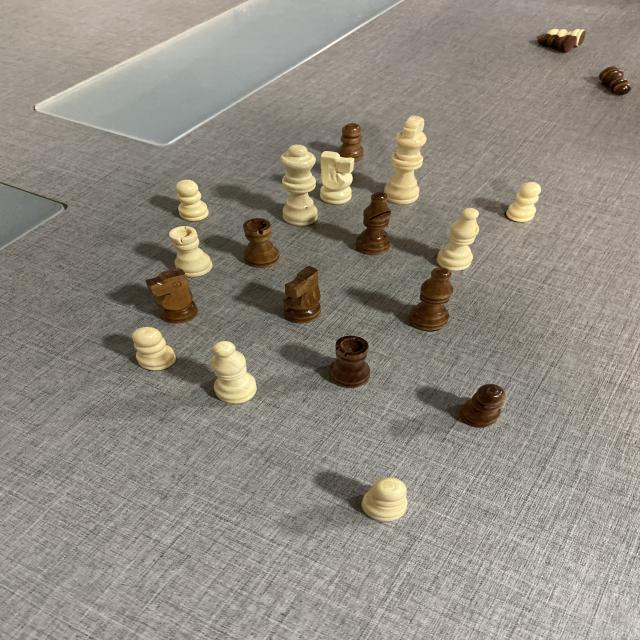Black-Bishop: (409, 266, 456, 329), (358, 194, 394, 255)
Black-Knight: (148, 269, 200, 327), (278, 266, 327, 324)
Black-Pawn: (459, 382, 509, 427), (337, 122, 368, 160), (597, 66, 632, 96), (535, 34, 576, 51)
Black-Rook: (329, 336, 374, 388), (243, 217, 279, 266)
White-Bishop: (207, 341, 264, 405), (436, 208, 479, 270)
White-King: (383, 116, 433, 204)
White-Knight: (318, 152, 356, 204)
White-Pawn: (358, 475, 411, 520), (130, 326, 179, 372), (503, 181, 545, 227), (176, 179, 210, 220), (550, 25, 590, 44)
White-Queen: (281, 144, 316, 227)
White-Rook: (168, 225, 214, 278)
